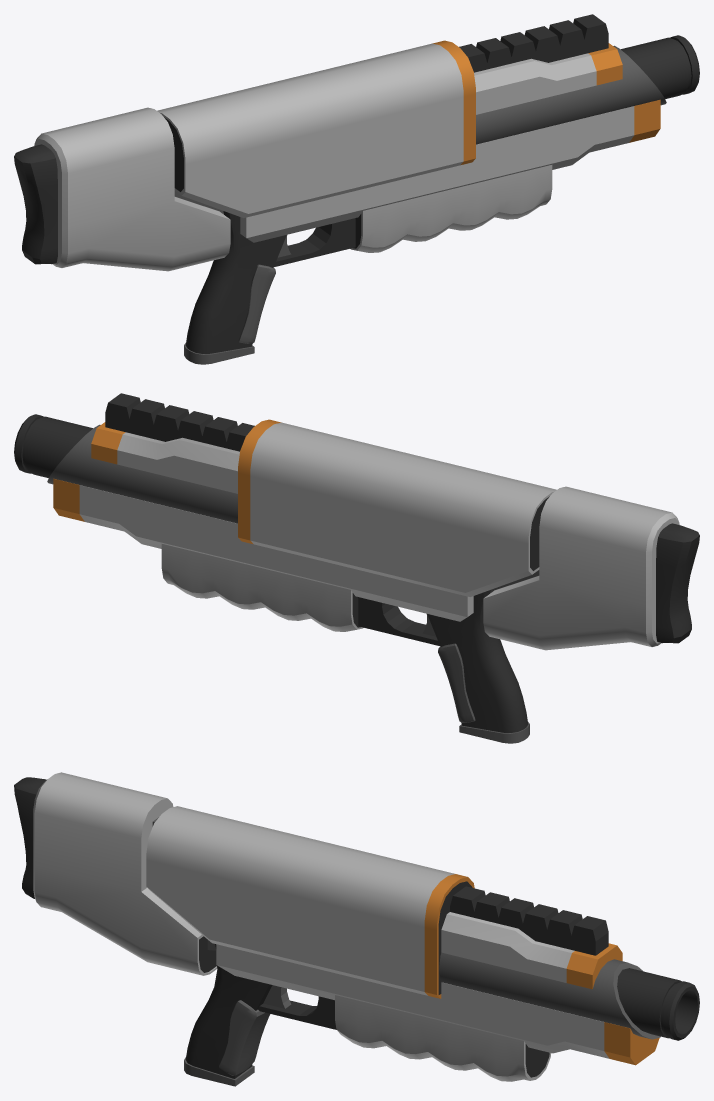
The model's file is Grenade_2.gltf.
The picture shows the model from 3 angles, top to bottom: view 1: azimuth 30°, elevation 25°; view 2: azimuth 150°, elevation 25°; view 3: azimuth 330°, elevation 25°; orthographic projection.
Visible parts, largest first — view 1: Grenade_2; view 2: Grenade_2; view 3: Grenade_2.
Boxes of the visible parts, x1=… form: Grenade_2: x1=14, y1=14, x2=699, y2=364; Grenade_2: x1=14, y1=393, x2=699, y2=743; Grenade_2: x1=14, y1=772, x2=699, y2=1086.
Bounding box in the file's own units: 1.86 × 0.6803 × 0.1876.
